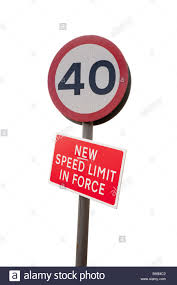Speed_limit_40km: (48, 35, 129, 124)
